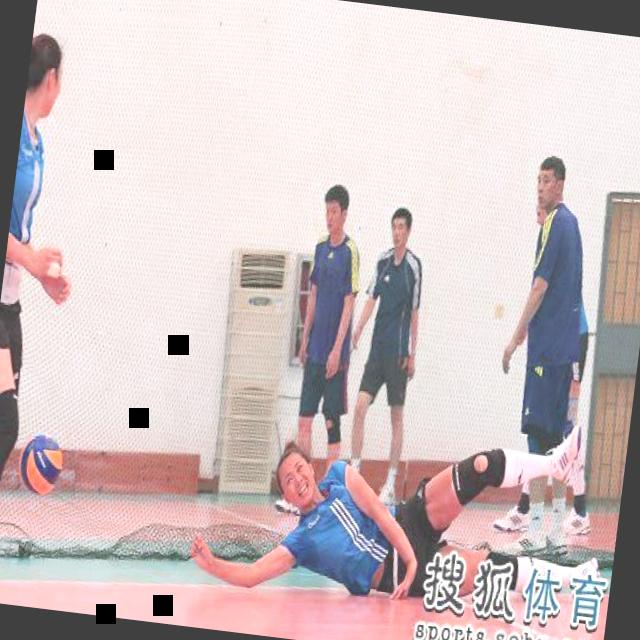Fall-Detected: (180, 365, 630, 640)
